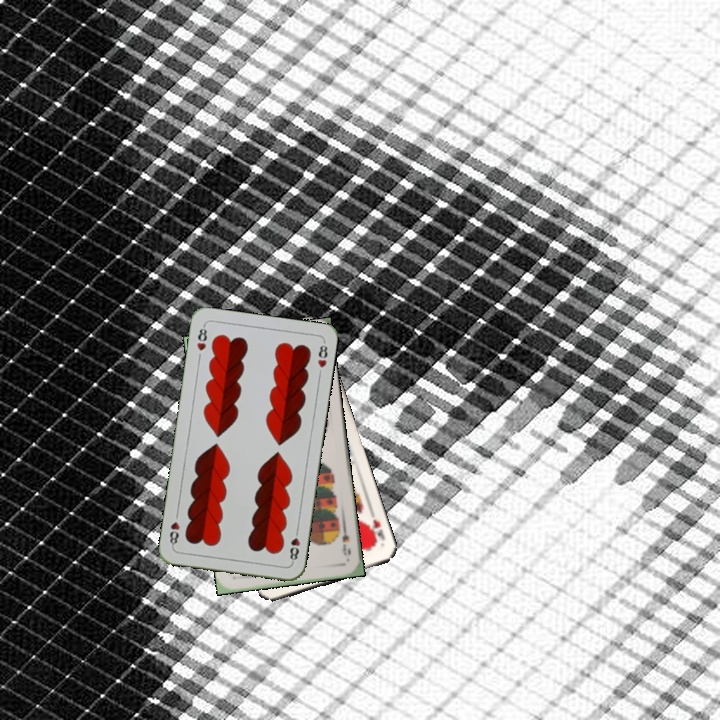H8: (286, 525, 302, 565), (193, 321, 209, 353)
HK: (364, 515, 388, 549)
S9: (337, 520, 354, 557)
